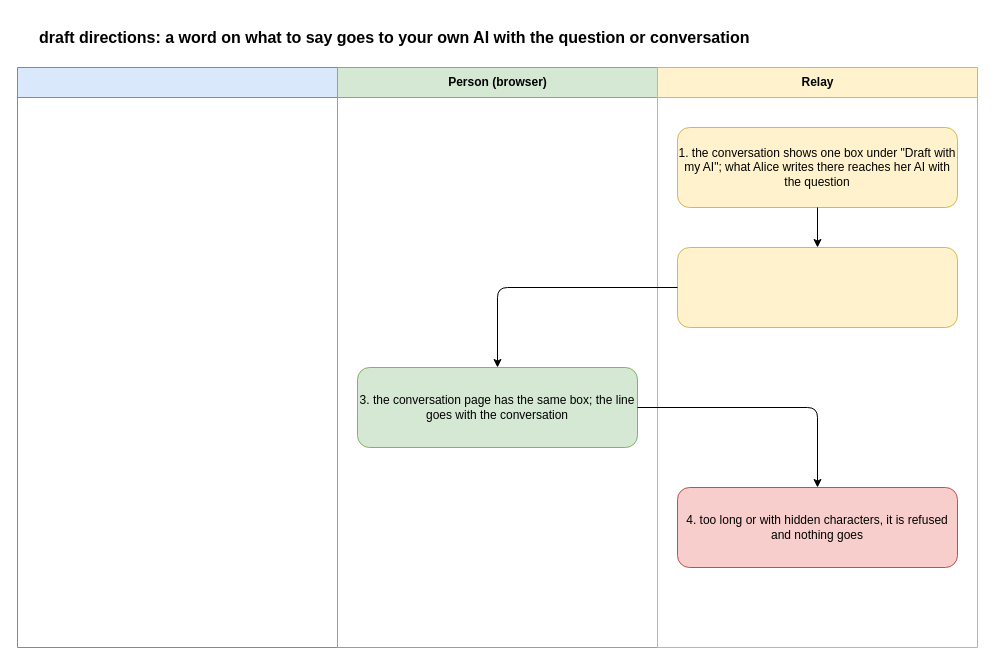
Some shapes in this 995 by 665 pixel diagram are drawn without their labels. The box of each missing label's shape, as (x1, y1, x2, y2) in pixels:
2. left empty, the question goes alone: (676, 246, 958, 328)
Agent (MCP client): (16, 66, 338, 648)
